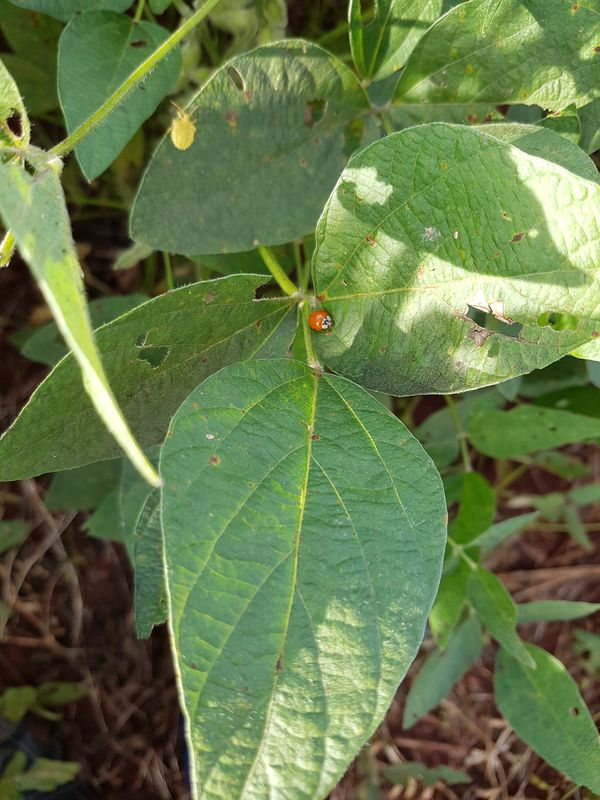Coccinellidae: (299, 300, 343, 339)
Euschistus_heros_ninfa: (159, 97, 209, 156)
